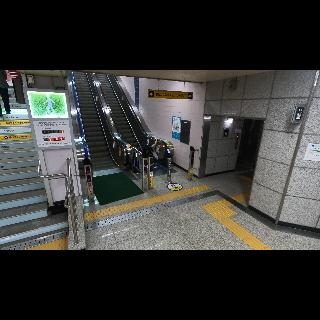anomaly: (140, 137, 162, 167)
